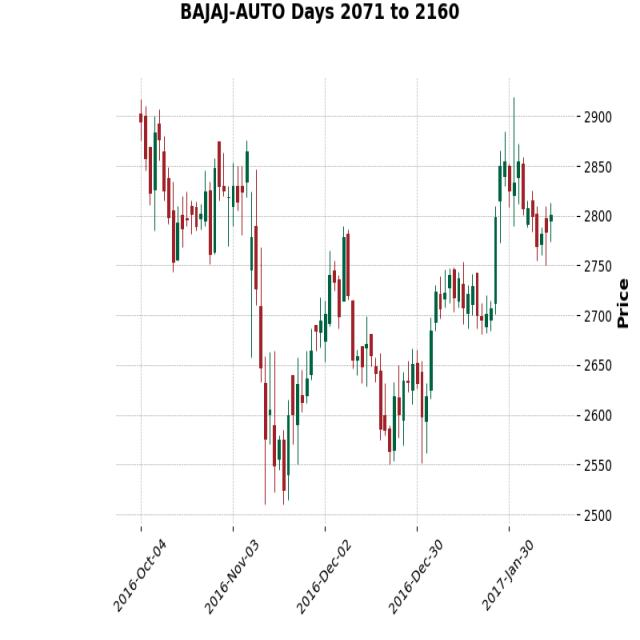Double Bottom: (336, 315, 467, 489)
